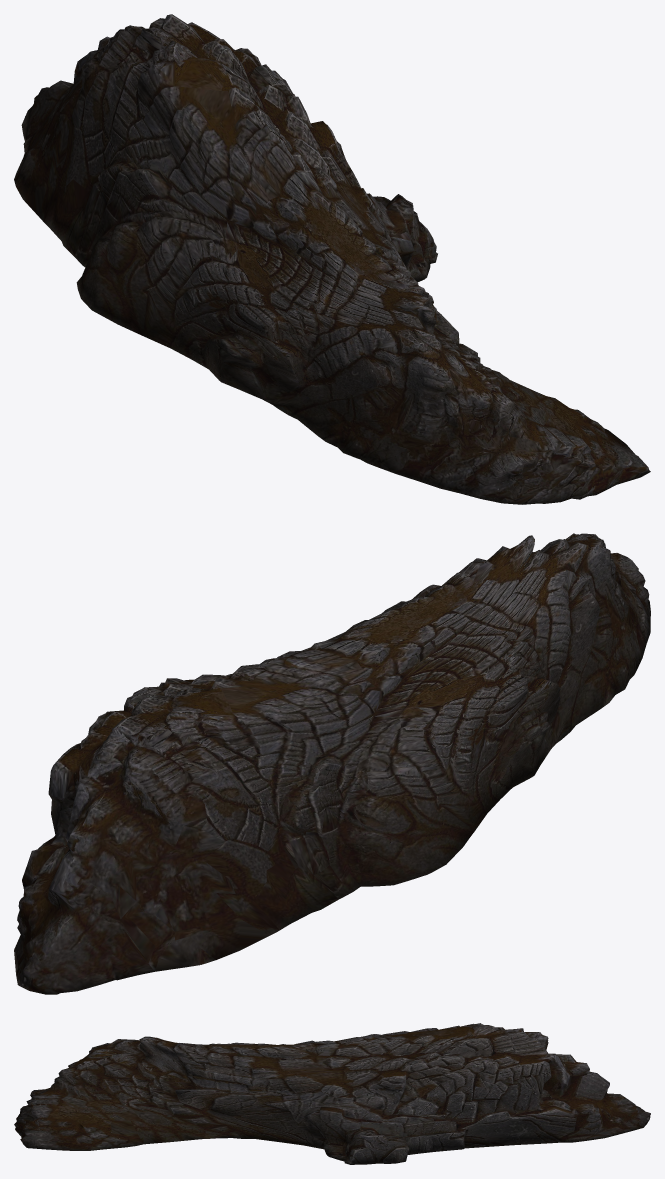
Rendered from Rock_02_Broken_Ridge_LOD1.fbx.
3 views of the same model, one above another, from view 1: azimuth 30°, elevation 25°; view 2: azimuth 150°, elevation 25°; view 3: azimuth 270°, elevation 25° (orthographic). The views are drawn at different scales.
Parts seen in each view (by area): view 1: Rock_02_Broken_Ridge_LOD1; view 2: Rock_02_Broken_Ridge_LOD1; view 3: Rock_02_Broken_Ridge_LOD1.
Part boxes in pixels (box(x1,y1,x2,y2)): Rock_02_Broken_Ridge_LOD1: box(14, 14, 650, 504); Rock_02_Broken_Ridge_LOD1: box(14, 533, 650, 994); Rock_02_Broken_Ridge_LOD1: box(14, 1023, 650, 1164).
Bounding box in the file's own units: 52.43 × 26.67 × 156.
